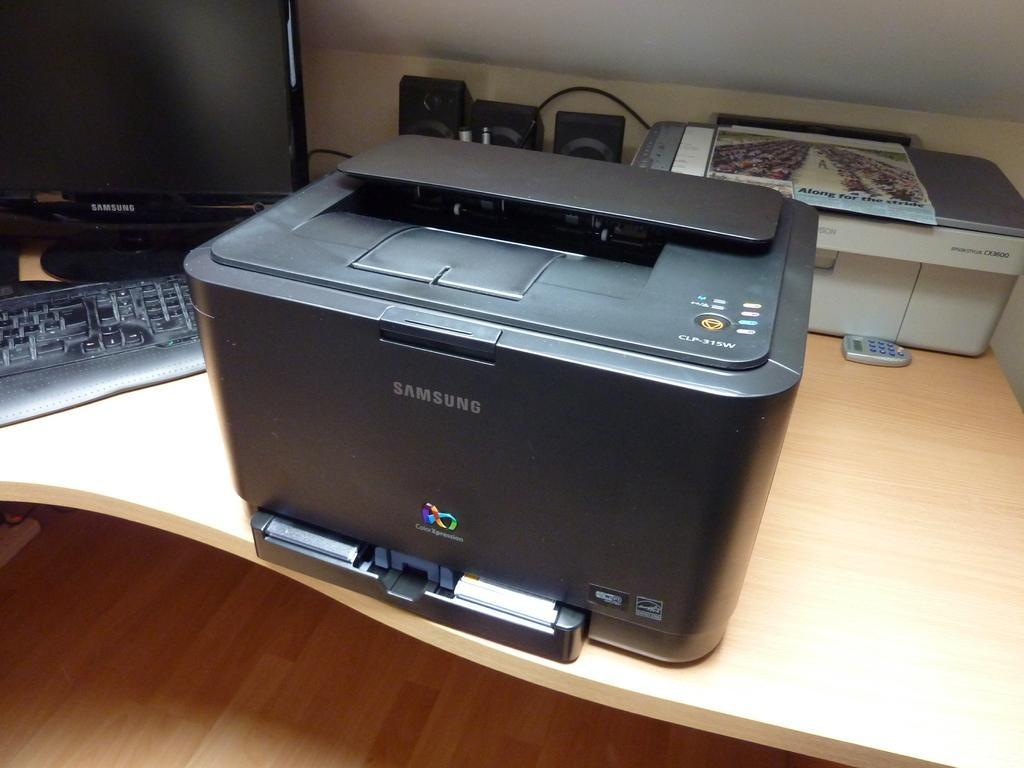AIO PC-Monitor-TV: (0, 0, 311, 283)
Printer: (181, 132, 817, 664), (630, 111, 1023, 357)
